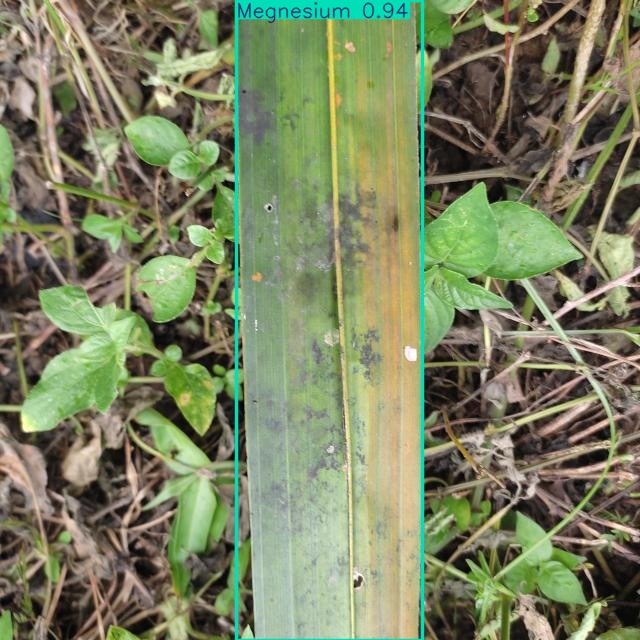Megnesium: (236, 0, 423, 640)
